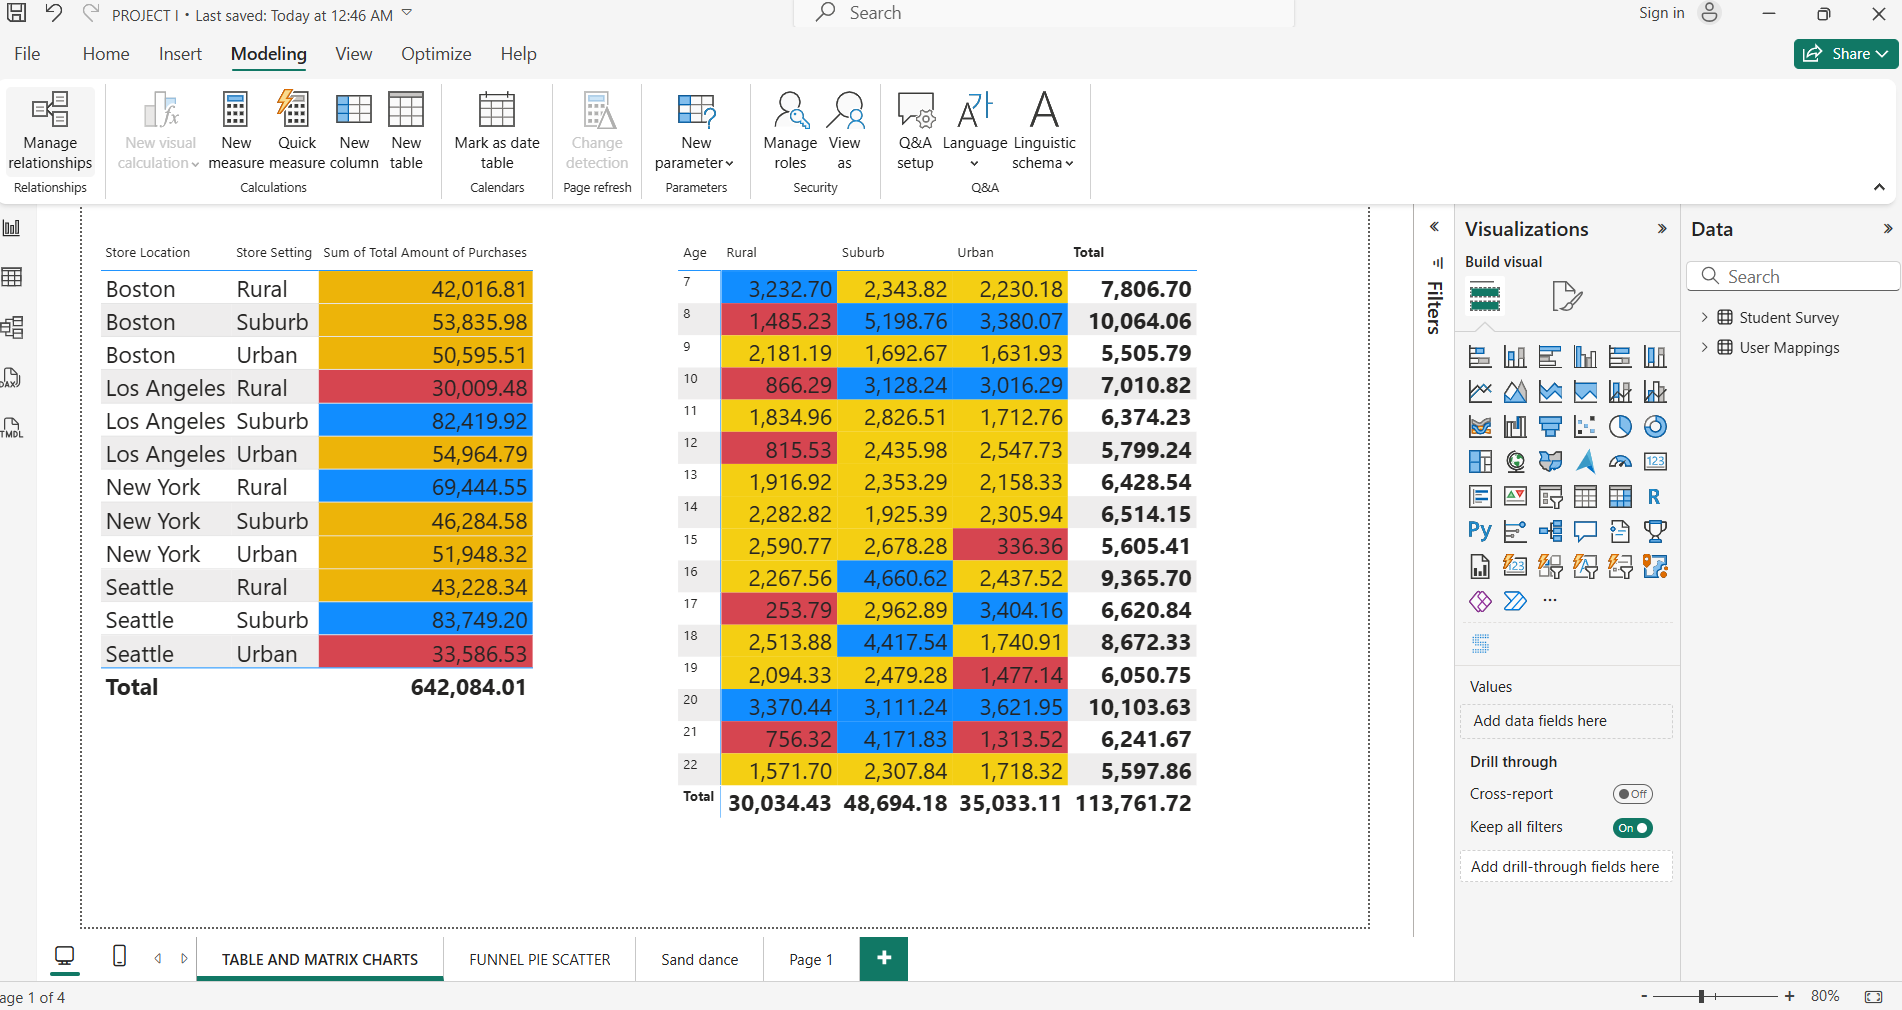

The page's visual inventory and layout, read from the dashboard file:
{"tool":"powerbi","page":{"name":"TABLE AND MATRIX CHARTS","canvas":[1280,720],"ordinal":0},"visuals":[{"type":"tableEx","fields":{"Values":["Student Survey.Store Location","Student Survey.Store Setting","Sum(Student Survey.Total Amount of Purchases)"]},"box":[12.1,31.8,477.7,514.1],"z":0},{"type":"pivotTable","fields":{"Rows":["Student Survey.Age"],"Values":["Sum(Student Survey.OutDoor SportKits)"],"Columns":["Student Survey.Store Setting"]},"box":[588.4,31.8,550.5,594.5],"z":1000},{"type":"qnaVisual","box":[12.4,546.1,486.4,174.2],"z":1001}]}

Visuals, with their boxes on the page's 1280x720 design canvas (x1, y1, x2, y2). These are canvas units, not pixel positions in the 1902x1010 screenshot, which may show the page scaled, cropped or inside an application window:
tableEx - Student Survey.Store Location x Student Survey.Store Setting: [x1=12, y1=32, x2=490, y2=546]
pivotTable - Student Survey.Age x Sum(Student Survey.OutDoor SportKits): [x1=588, y1=32, x2=1139, y2=626]
qnaVisual: [x1=12, y1=546, x2=499, y2=720]
